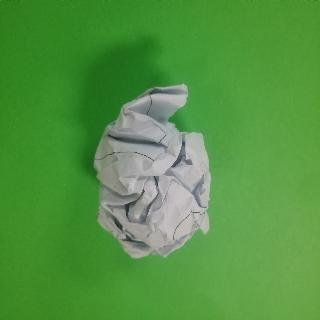8/可回收垃圾/纸: (92, 82, 213, 261)
